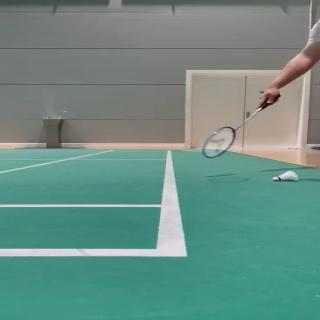Shuttle: (272, 171, 299, 181)
